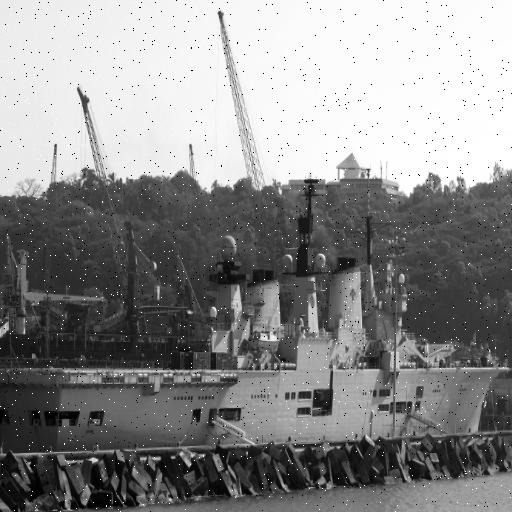Portanaves: (1, 171, 512, 468)
